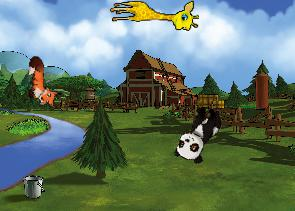fox: (26, 56, 62, 109)
giraffe: (109, 0, 199, 32)
panda: (171, 100, 226, 167)
